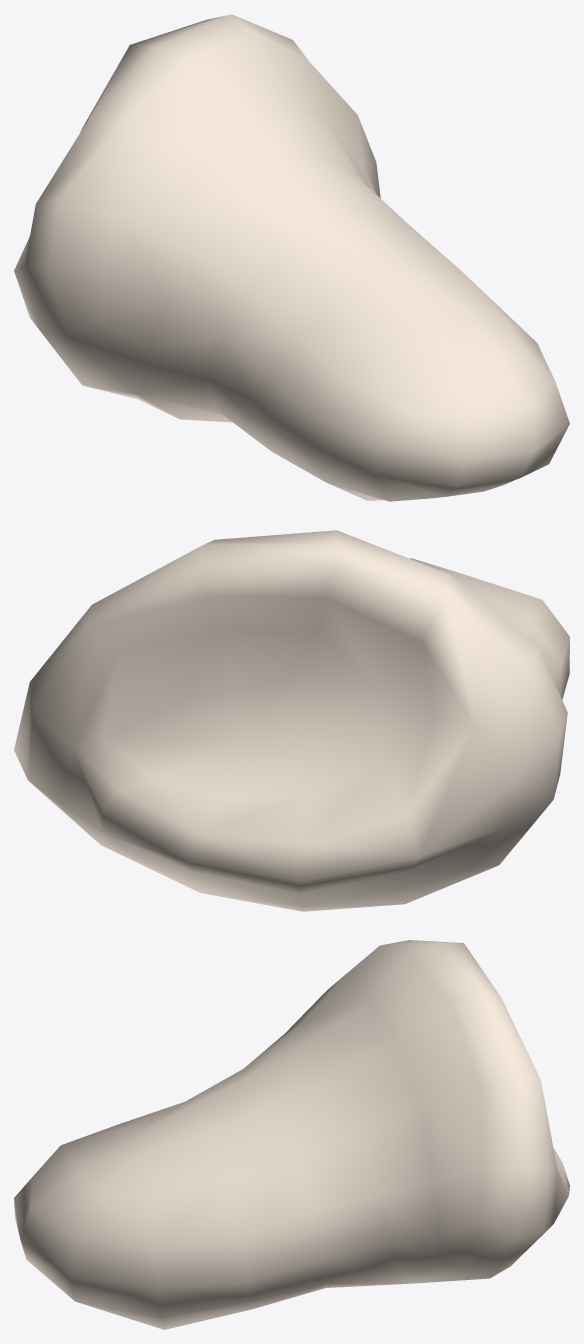
File: left_toe_4_distal.glb
The picture shows the model from 3 angles, top to bottom: view 1: azimuth 30°, elevation 25°; view 2: azimuth 150°, elevation 25°; view 3: azimuth 270°, elevation 25°; orthographic projection. The views are drawn at different scales.
Visible parts, largest first — view 1: Distal phalanx of fourth finger of foot.r; view 2: Distal phalanx of fourth finger of foot.r; view 3: Distal phalanx of fourth finger of foot.r.
Part boxes in pixels (bbox=[...]): Distal phalanx of fourth finger of foot.r: bbox=[14, 14, 569, 501]; Distal phalanx of fourth finger of foot.r: bbox=[14, 530, 569, 911]; Distal phalanx of fourth finger of foot.r: bbox=[14, 940, 569, 1329].
Size of the model in its own units: 0.00863 by 0.00715 by 0.0114.
